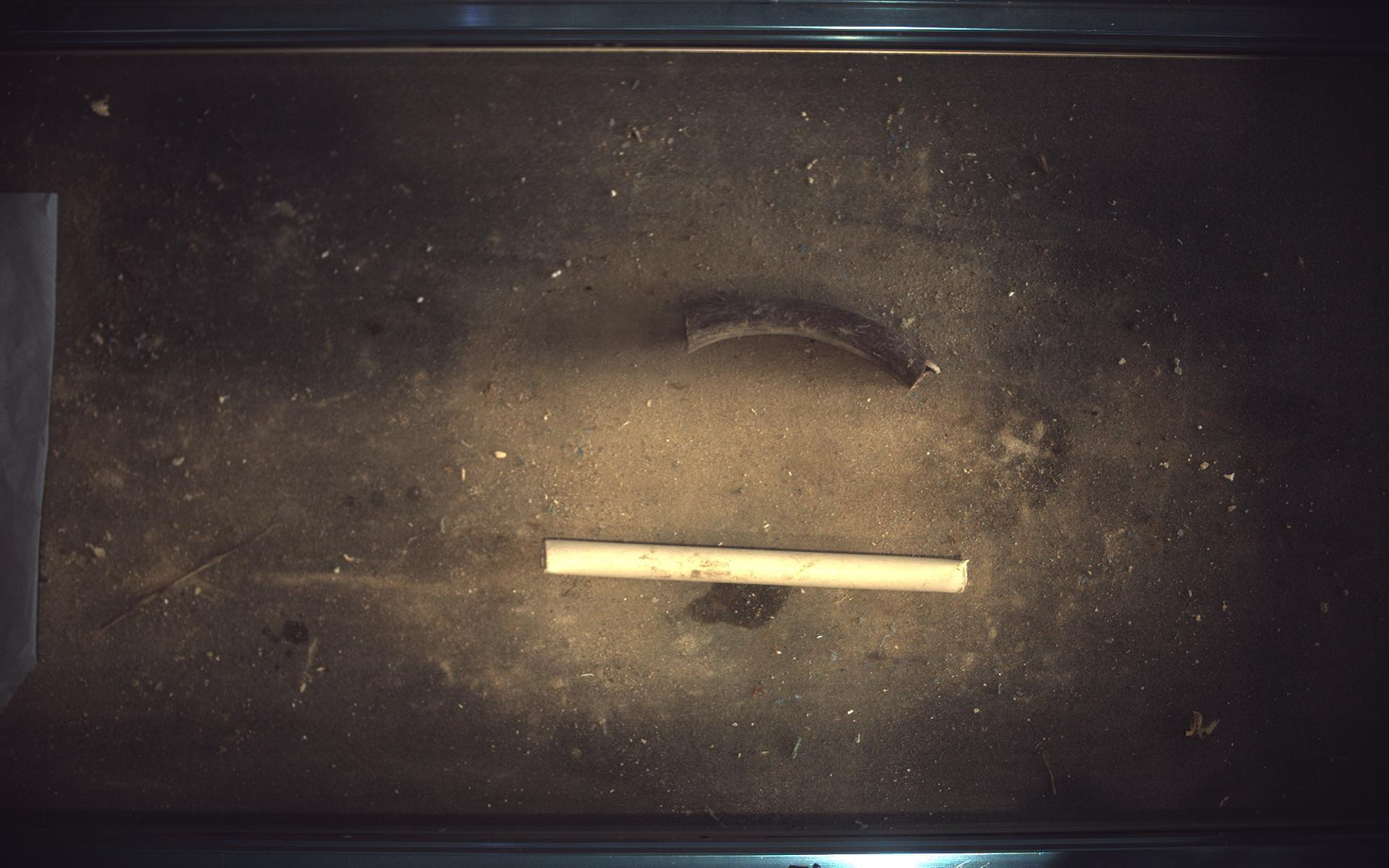pipes: (687, 297, 940, 388), (545, 540, 969, 594)
